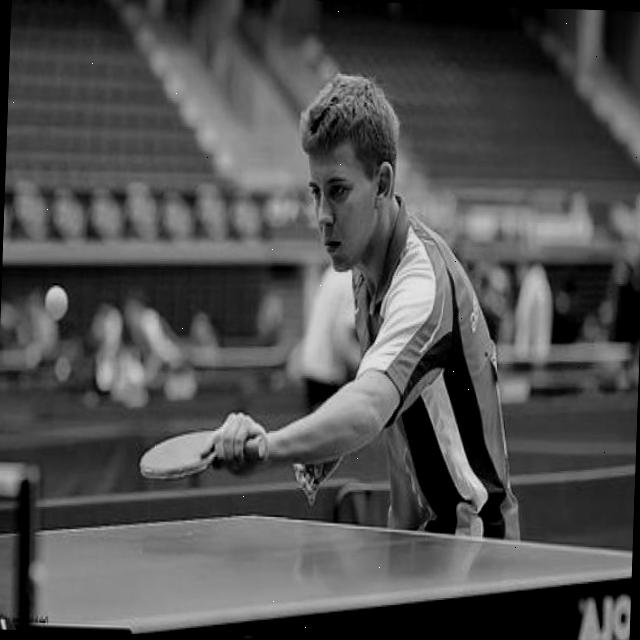ping-pong-ball: (41, 282, 70, 322)
